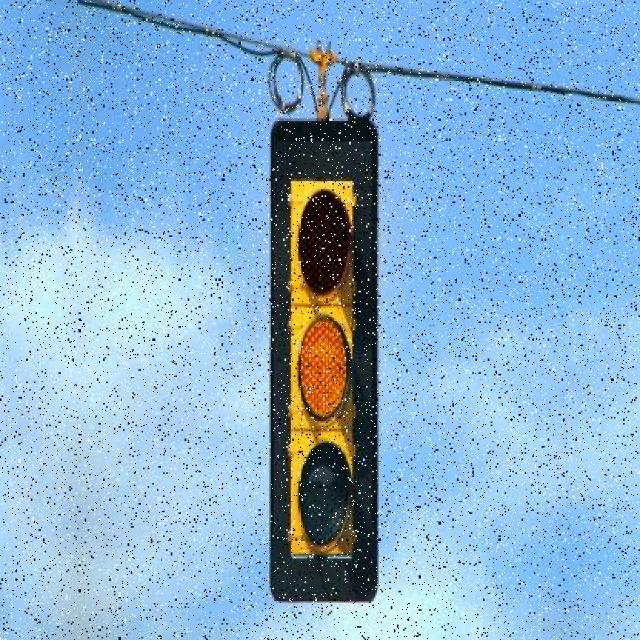yellow-light: (265, 112, 390, 616)
